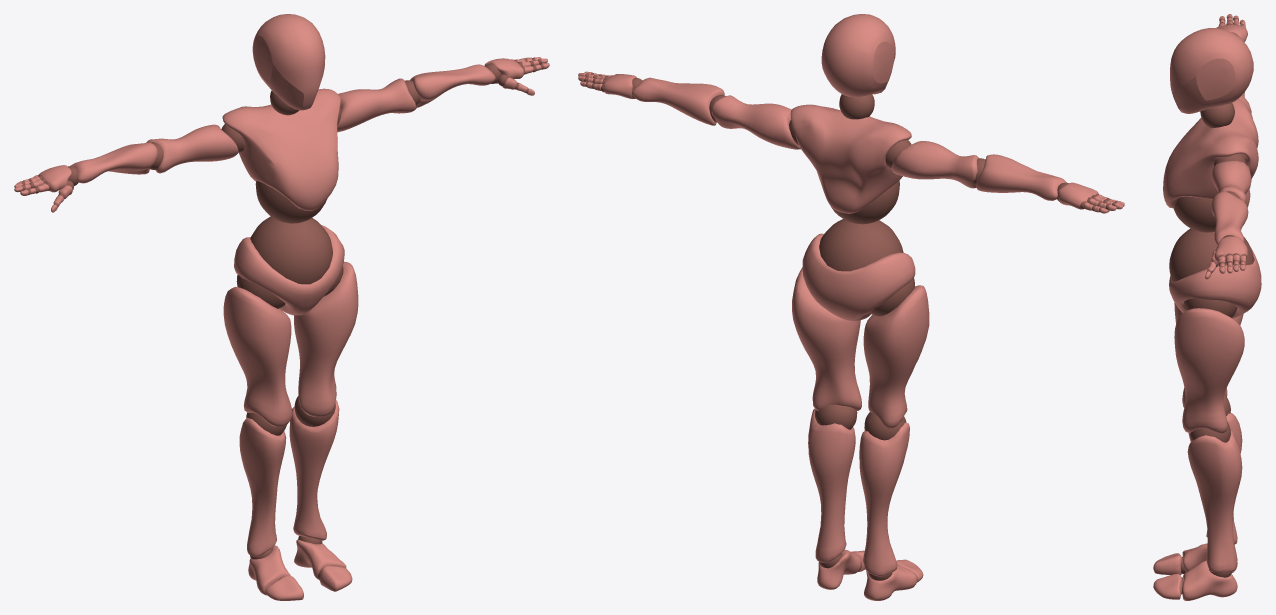
3 views of the same model, side by side, from view 1: azimuth 30°, elevation 25°; view 2: azimuth 150°, elevation 25°; view 3: azimuth 270°, elevation 25° (orthographic). The views are drawn at different scales.
Visible parts, largest first — view 1: Beta_Surface, Beta_Joints; view 2: Beta_Surface, Beta_Joints; view 3: Beta_Surface, Beta_Joints.
Boxes of the visible parts, x1,y1,x2,y2 form: Beta_Surface: [14, 14, 549, 600]; Beta_Joints: [21, 57, 543, 579]; Beta_Surface: [578, 14, 1124, 600]; Beta_Joints: [584, 72, 1117, 580]; Beta_Surface: [1153, 14, 1261, 600]; Beta_Joints: [1169, 16, 1254, 594].
Size of the model in its own units: 181 by 181 by 32.07.
